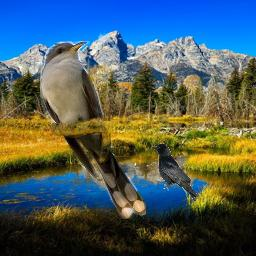Crow: (150, 143, 197, 202)
Cuckoo: (40, 41, 146, 219)
